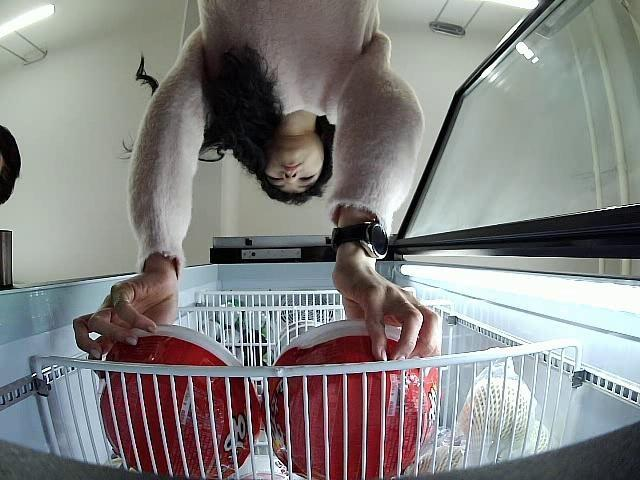10_wangTtukkeong: (266, 319, 438, 480), (98, 323, 261, 480)
